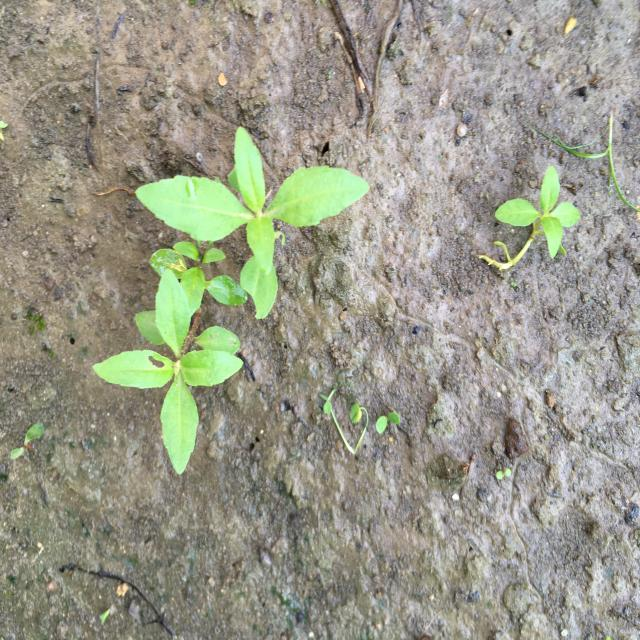Eclipta: (132, 123, 372, 321), (90, 264, 245, 478), (476, 164, 584, 272)
